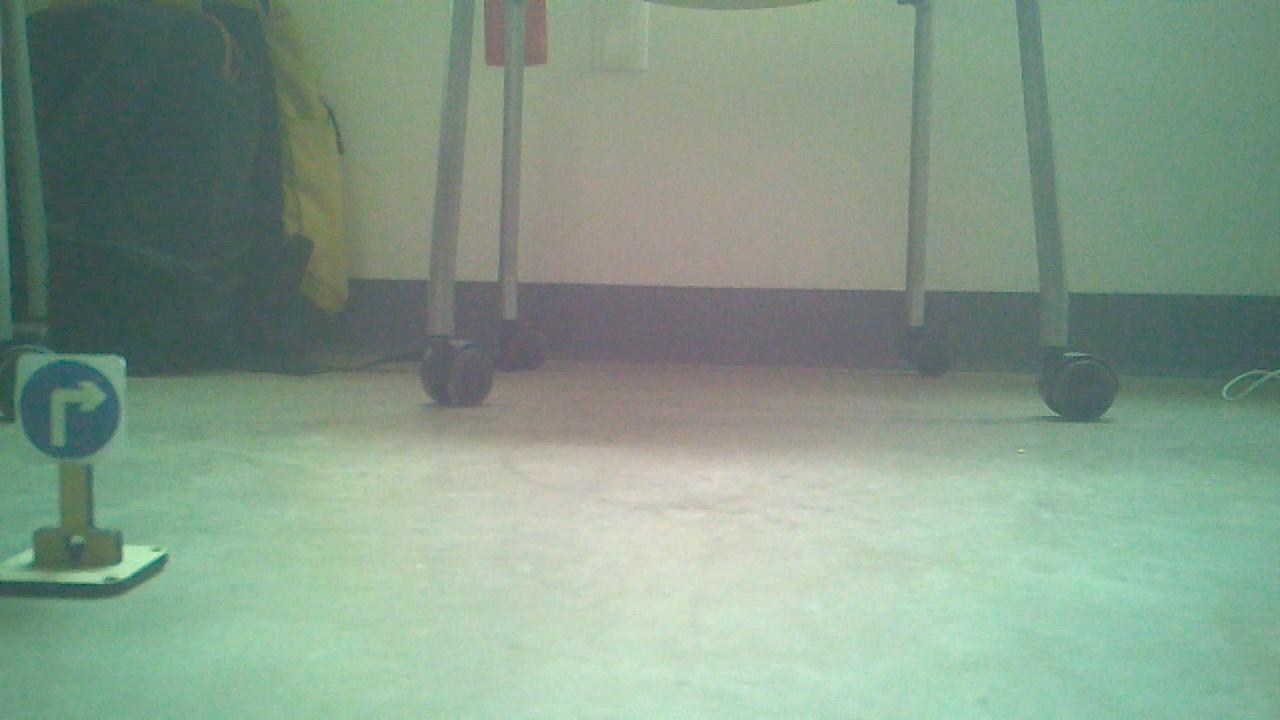turn: (18, 357, 128, 462)
